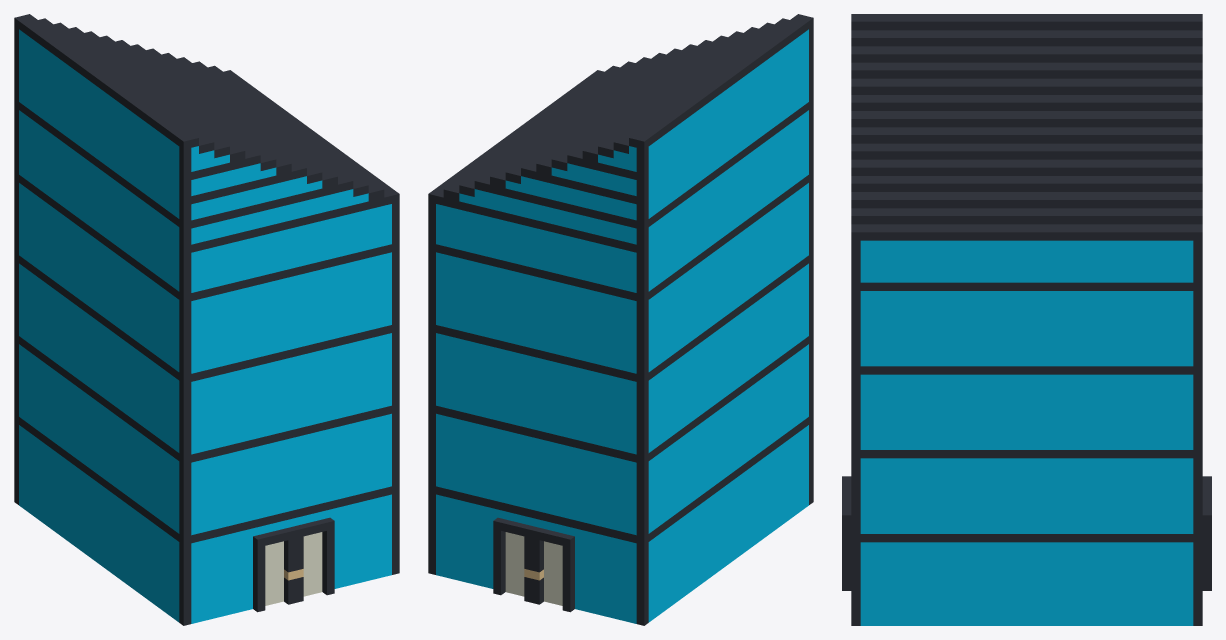
The model's file is Cutter_tower.obj.
The picture shows the model from 3 angles, left to right: view 1: azimuth 30°, elevation 25°; view 2: azimuth 150°, elevation 25°; view 3: azimuth 270°, elevation 25°; orthographic projection. The views are drawn at different scales.
Size of the model in its own units: 2.8 by 6 by 4.
1 material, 1 textured.
